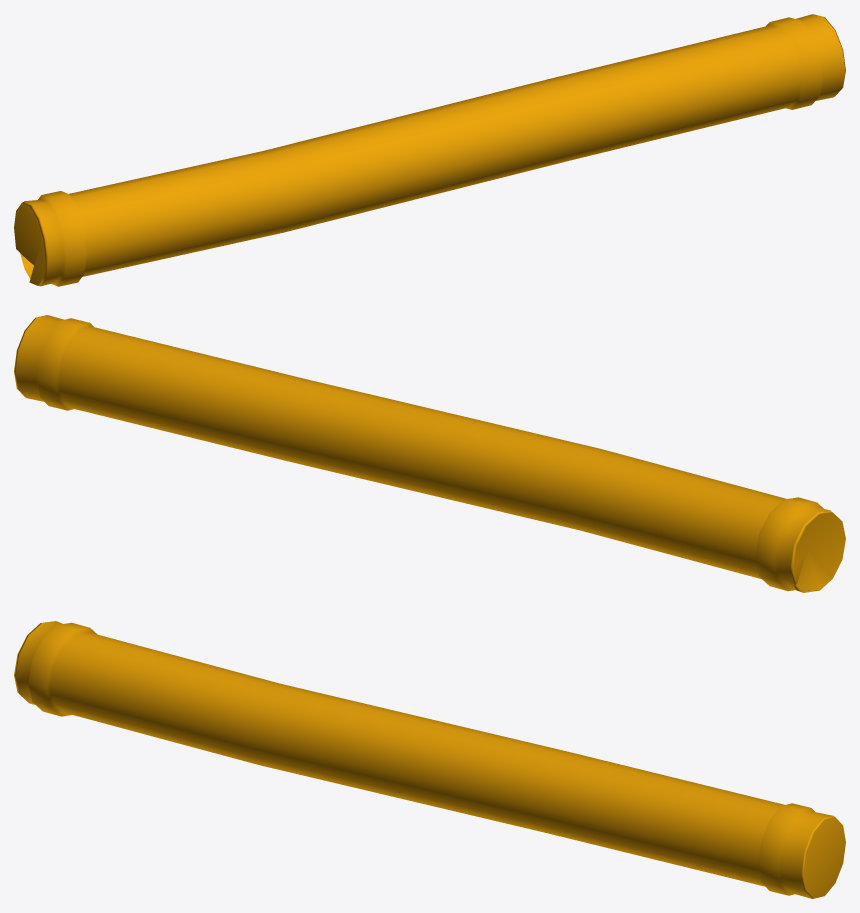
The model's file is Log_02.fbx.
3 renders of one model, top to bottom at view 1: azimuth 30°, elevation 25°; view 2: azimuth 150°, elevation 25°; view 3: azimuth 330°, elevation 25°, orthographic.
Visible parts, largest first — view 1: Log_02; view 2: Log_02; view 3: Log_02.
Boxes of the visible parts, box(x1,y1,x2,y2) form: Log_02: box(14, 14, 845, 286); Log_02: box(14, 315, 845, 592); Log_02: box(14, 621, 845, 898).
Size of the model in its own units: 144 by 14.7 by 15.65.
